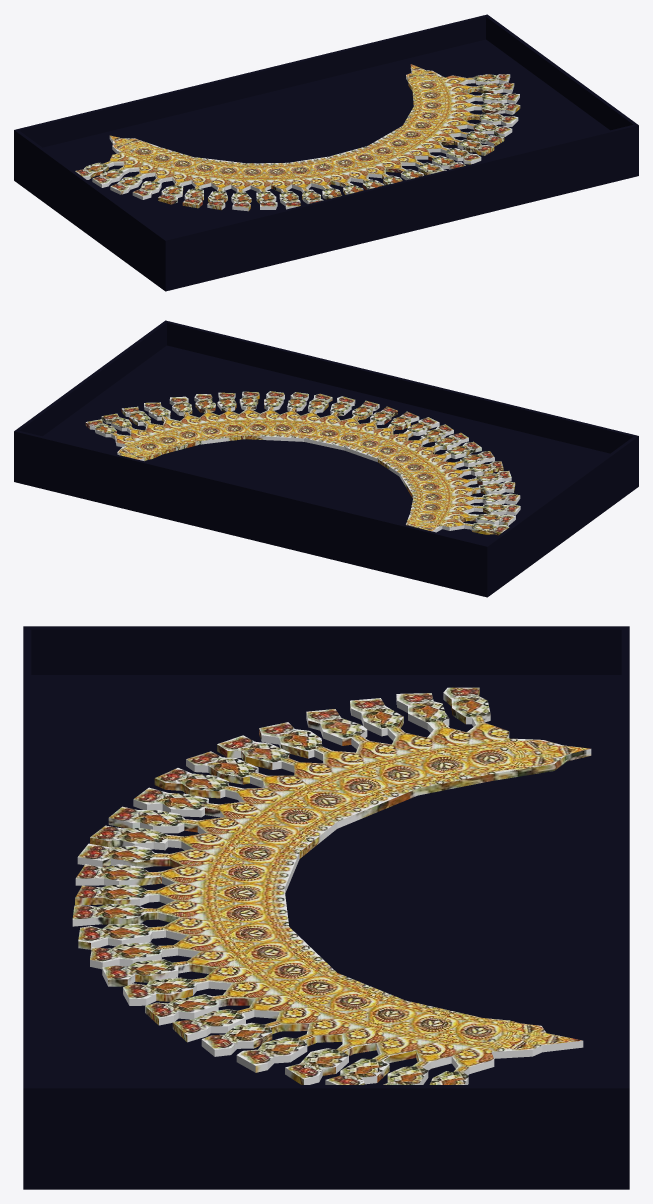
Rendered from jewelry03.FBX.
3 renders of one model, top to bottom at view 1: azimuth 30°, elevation 25°; view 2: azimuth 150°, elevation 25°; view 3: azimuth 270°, elevation 25°, orthographic. The views are drawn at different scales.
Parts seen in each view (by area): view 1: Box001, Line026; view 2: Box001, Line026; view 3: Box001, Line026.
Part boxes in pixels (<box>): Box001: <box>14,14,638,291</box>; Line026: <box>75,64,520,211</box>; Box001: <box>14,320,638,597</box>; Line026: <box>85,391,520,535</box>; Box001: <box>23,626,629,1189</box>; Line026: <box>72,687,591,1084</box>.
Bounding box in the file's own units: 74.46 × 41.27 × 7.62.
2 materials, 1 textured.
